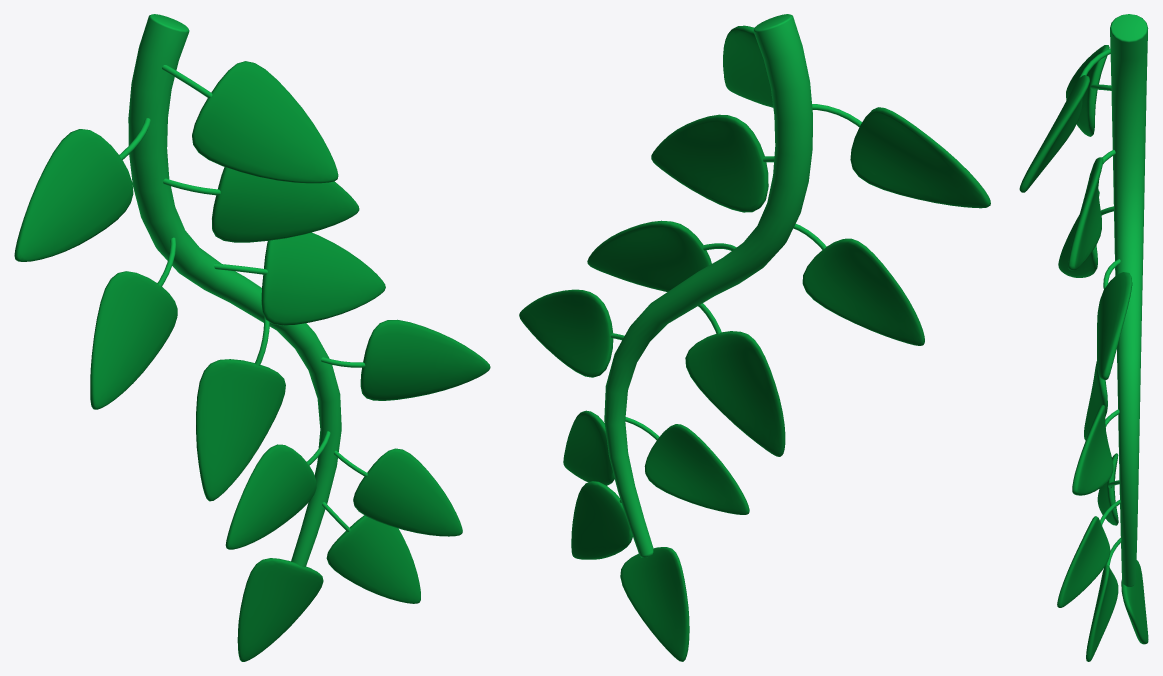
File: Town_20_Ivy_2.glb
3 renders of one model, left to right at view 1: azimuth 30°, elevation 25°; view 2: azimuth 150°, elevation 25°; view 3: azimuth 270°, elevation 25°, orthographic. The views are drawn at different scales.
Parts seen in each view (by area): view 1: Town_20_Ivy_2; view 2: Town_20_Ivy_2; view 3: Town_20_Ivy_2.
Part boxes in pixels (x1,y1,x2,y2): Town_20_Ivy_2: [14, 14, 490, 661]; Town_20_Ivy_2: [519, 14, 990, 661]; Town_20_Ivy_2: [1019, 14, 1148, 661].
Bounding box in the file's own units: 2.51 × 3.38 × 0.6731.
1 material, 1 textured.
